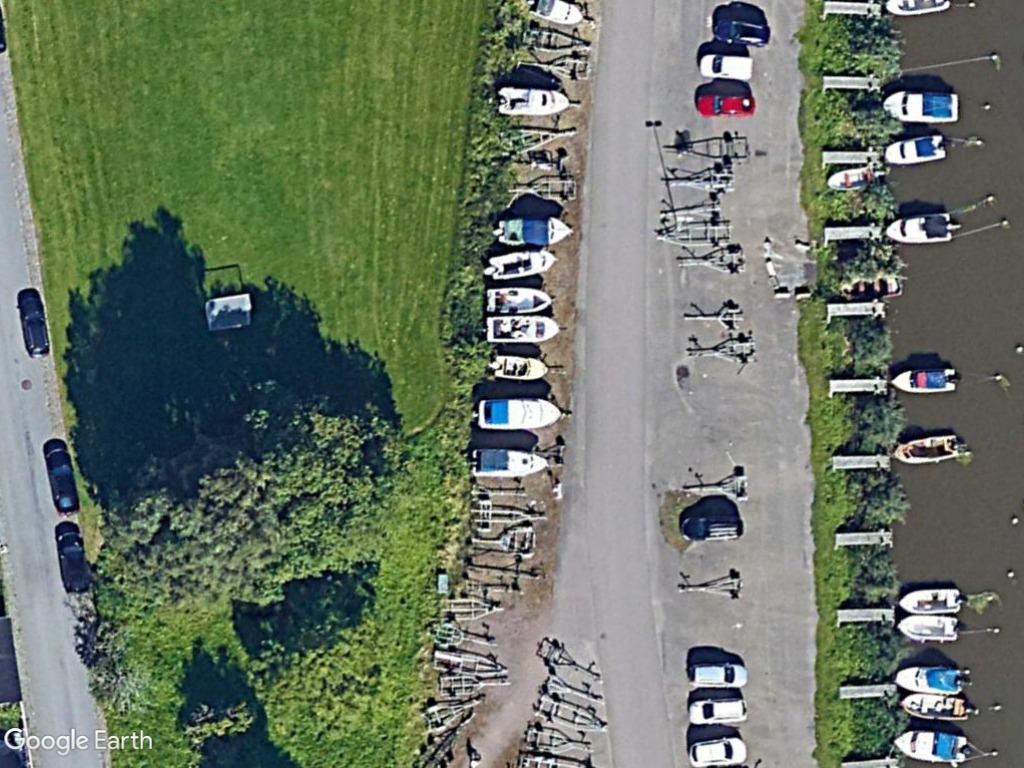boat: (879, 83, 965, 127), (473, 396, 568, 435), (887, 726, 971, 768), (467, 445, 555, 484), (489, 213, 573, 252), (484, 309, 565, 348), (494, 82, 573, 121), (888, 429, 965, 469), (879, 209, 956, 247), (890, 661, 969, 698), (896, 688, 972, 725), (480, 246, 560, 279), (894, 584, 966, 619), (893, 608, 962, 644), (881, 131, 949, 167), (481, 283, 555, 316), (888, 363, 959, 397), (488, 351, 554, 384)
car: (41, 441, 82, 520), (16, 289, 52, 363), (53, 528, 91, 598), (678, 508, 749, 545), (685, 657, 752, 693), (707, 15, 776, 49), (685, 691, 752, 726), (685, 735, 751, 768), (695, 90, 758, 121)
van: (694, 50, 759, 83)
